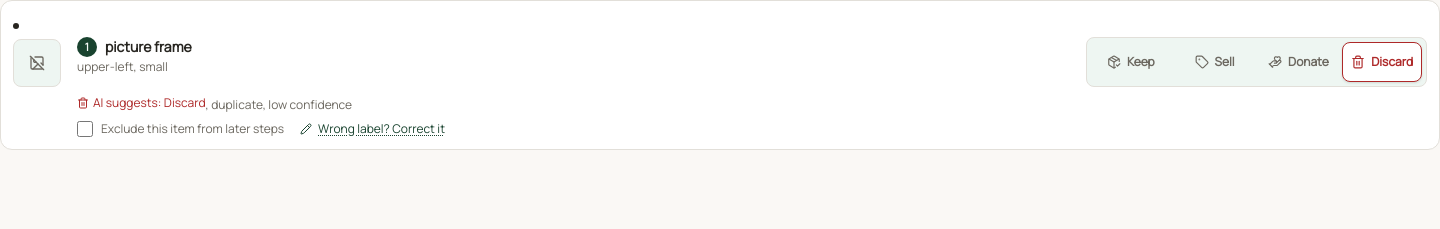
Test: DeclutterItemCard › label correction control › a detector label shows Submit correction even when the input still equals the current label
The width and height of the screenshot is (1440, 229).
What coordinates should you click on to do the following:
click the button "Wrong label? Correct it"
I would click on:
 (372, 129)
Its box is 300,121 -> 445,137.
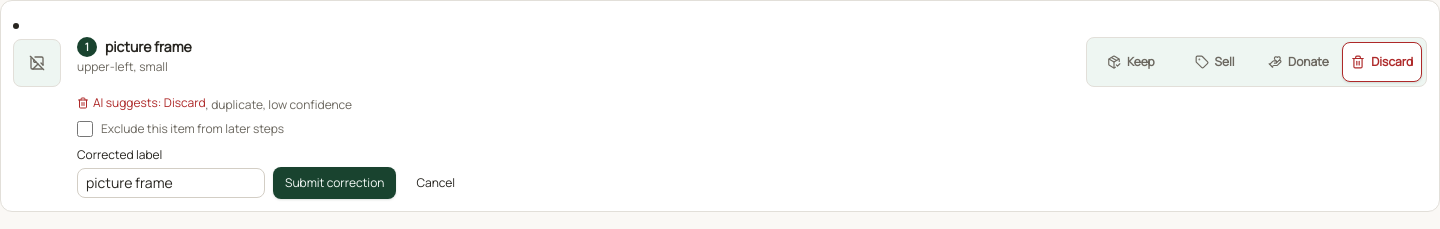
Expected: the button "Submit correction" is enabled, 273,167 -> 396,199
